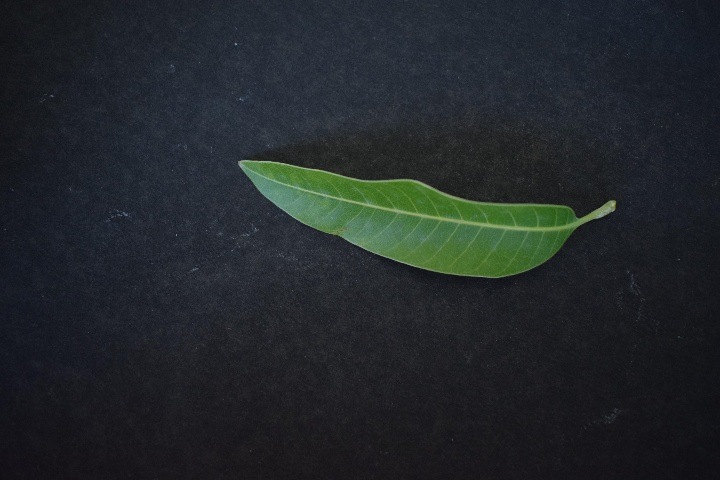healthy: (235, 156, 581, 287)
